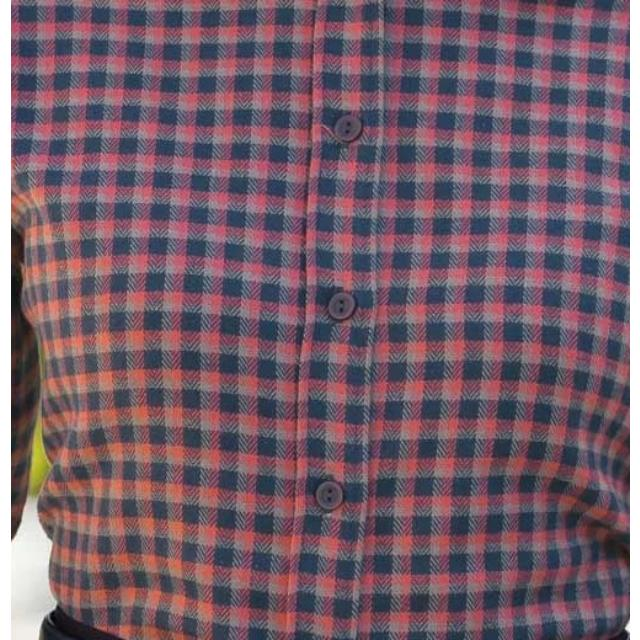cotton: (11, 0, 630, 640)
